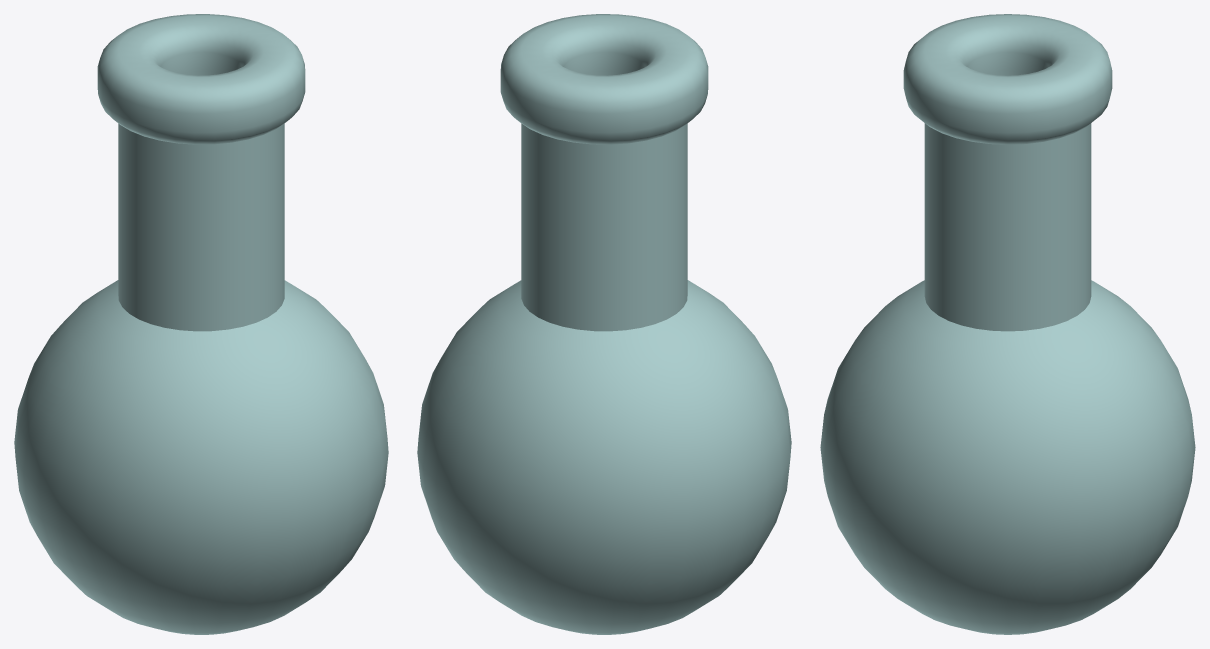
The model's file is LastLuna_Model_Station_Flask_Round.fbx.
3 renders of one model, left to right at view 1: azimuth 30°, elevation 25°; view 2: azimuth 150°, elevation 25°; view 3: azimuth 270°, elevation 25°, orthographic.
Parts seen in each view (by area): view 1: Flask_Round001; view 2: Flask_Round001; view 3: Flask_Round001.
Part boxes in pixels (box(x1,y1,x2,y2)): Flask_Round001: box(14, 14, 388, 634); Flask_Round001: box(417, 14, 791, 634); Flask_Round001: box(820, 14, 1195, 634).
Size of the model in its own units: 45 by 75 by 45.
